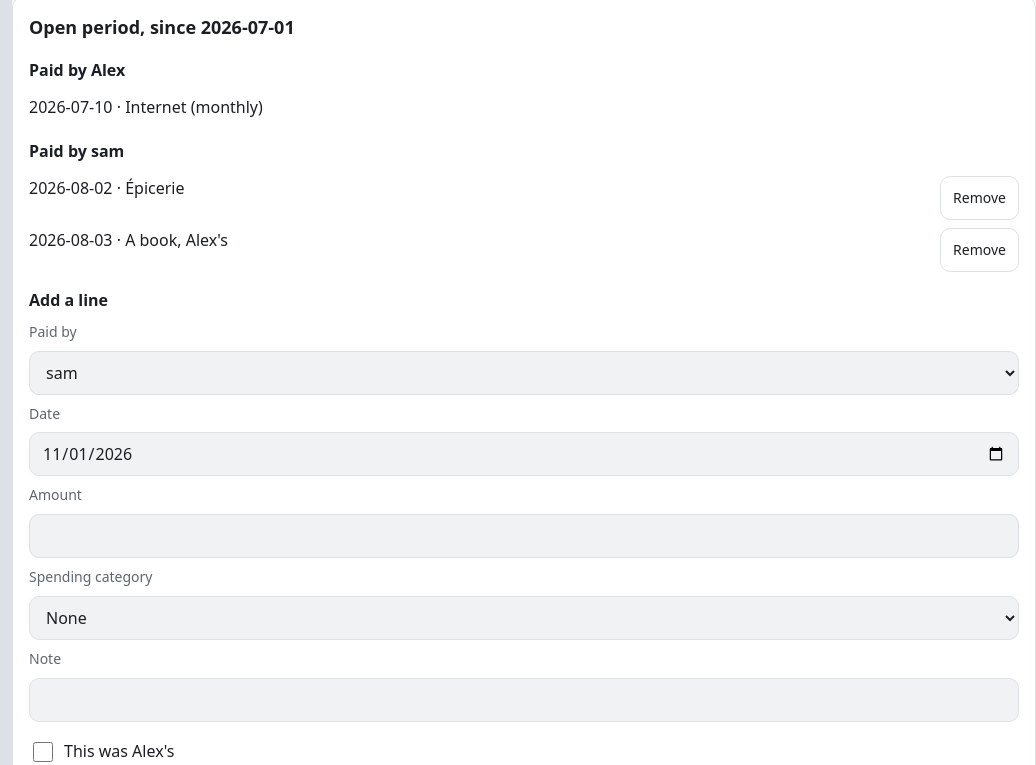
it: a charge to a renamed person is confirmed under their shown name, and sends the id (lg-33)
Type "2026-09-12" into the date field labelled "Date".
click(524, 454); type("2026-09-12")  # box 29,432 -> 1019,476
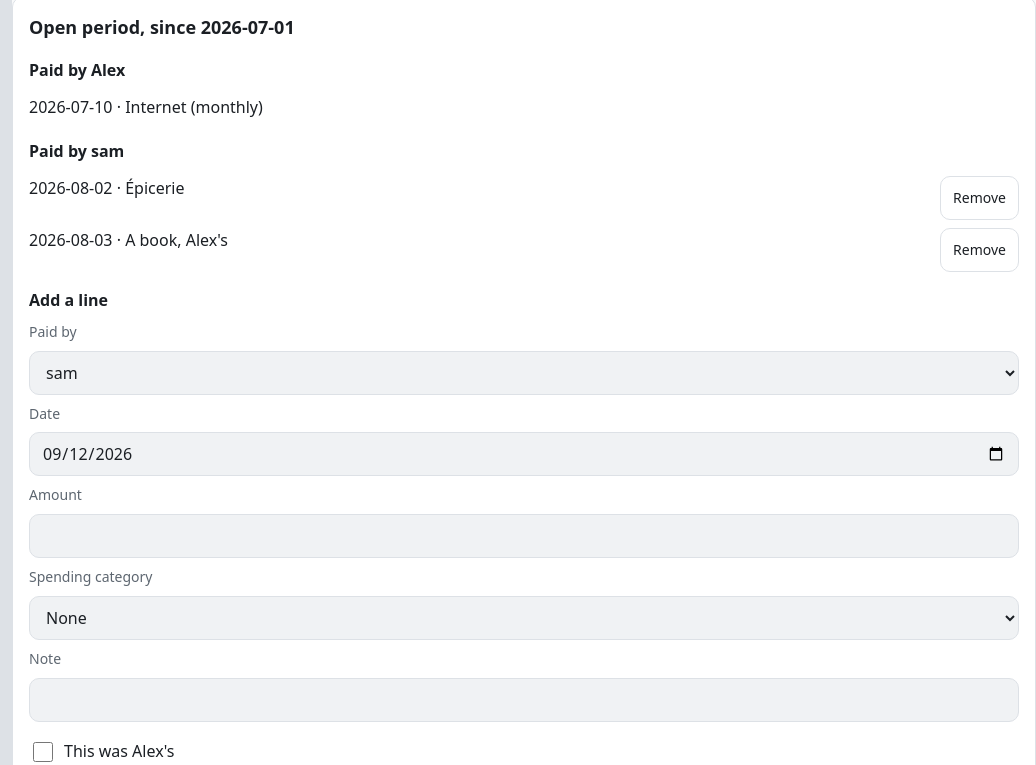
Type "45.20" into the field labelled "Amount".
click(524, 536); type("45.20")  # box 29,514 -> 1019,558
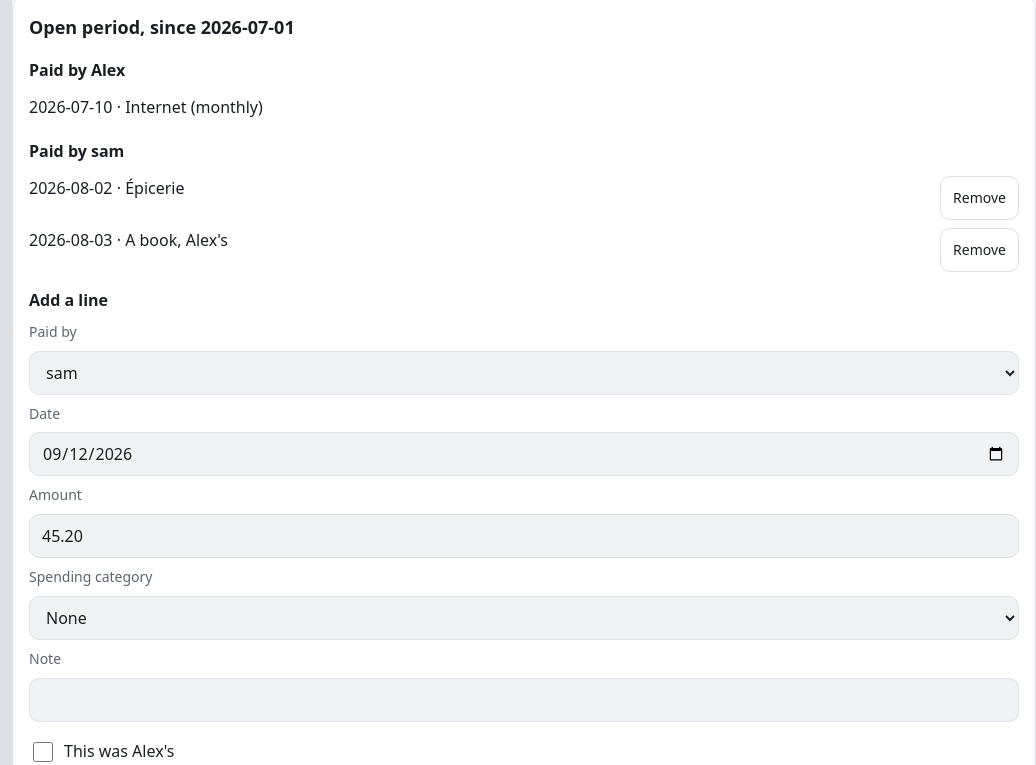
Select "Pharmacy" in the dropdown labelled "Spending category" at (524, 618), box 29,596 -> 1019,640
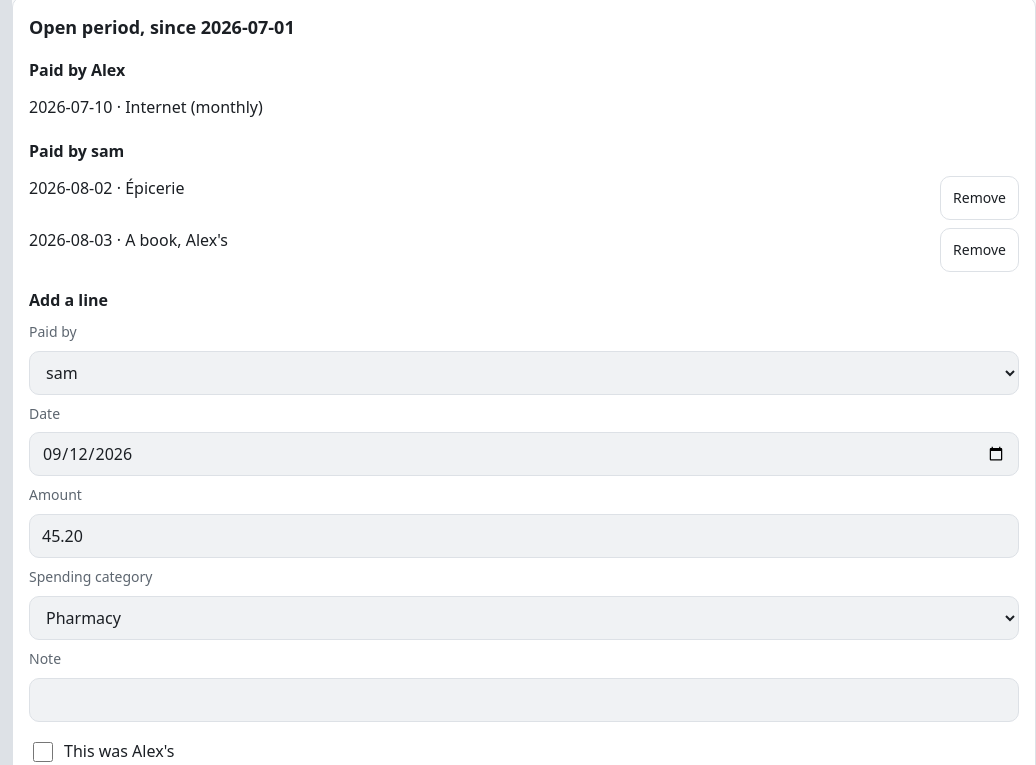
Click the checkbox labelled "This was Alex's".
click(43, 752)  # box 33,742 -> 53,762
(page scrolled)
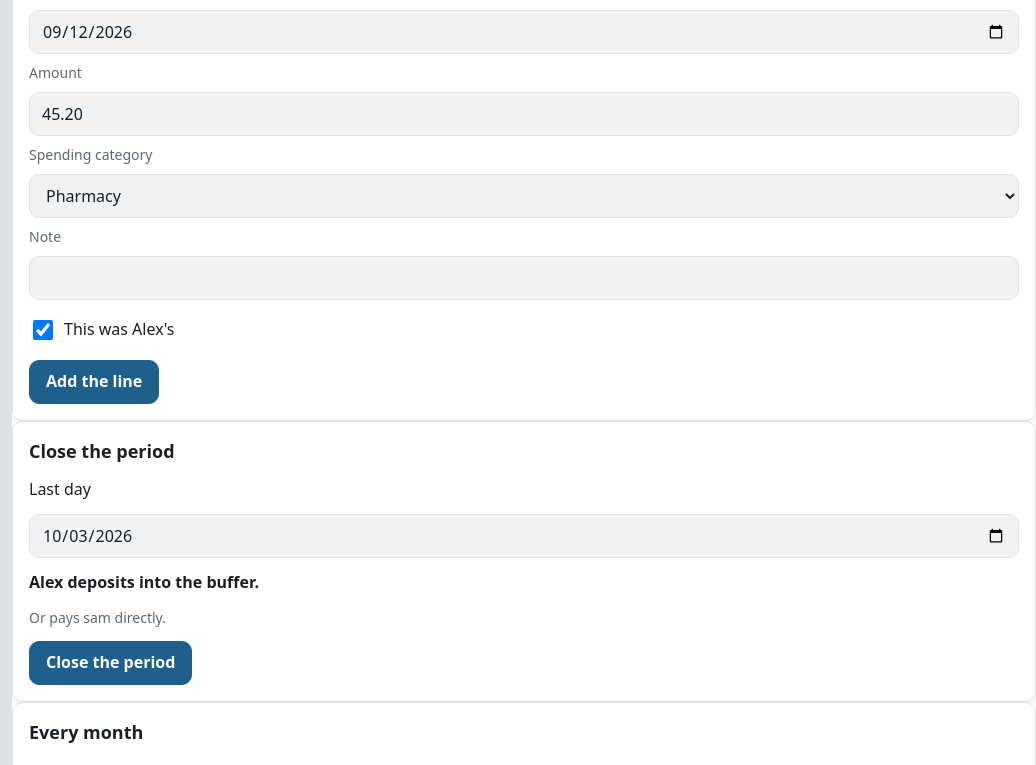
Click the button "Add the line".
click(94, 382)  # box 29,360 -> 159,404
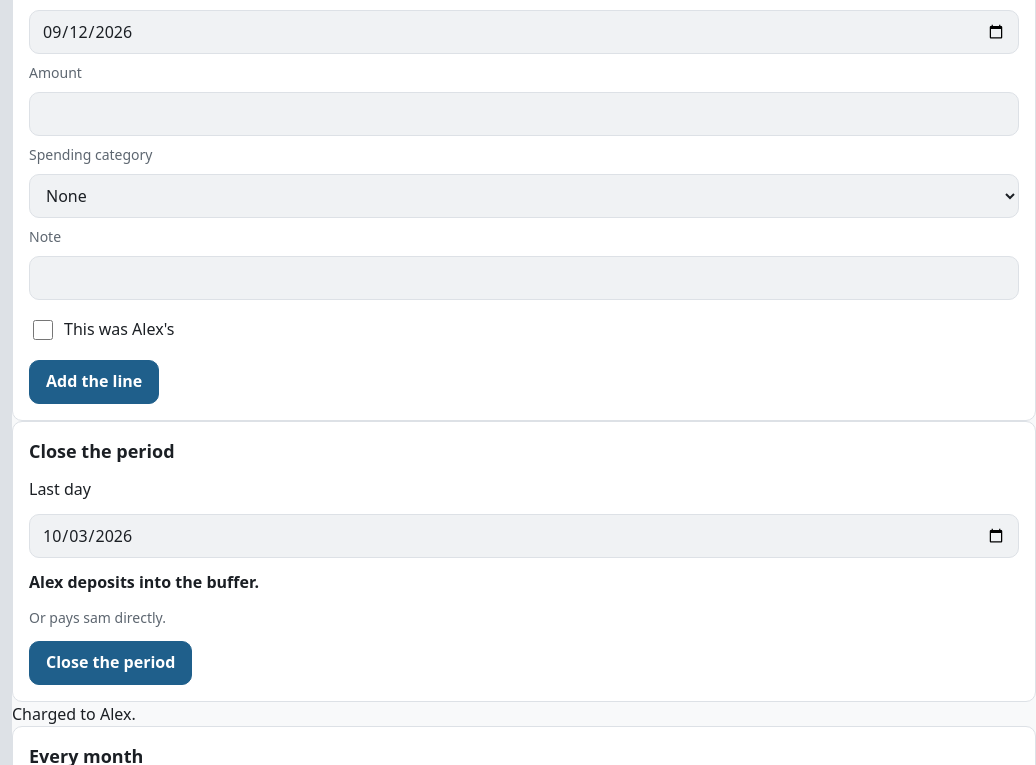
Expected: the text "Charged to Alex." is shown, 12,703 -> 136,725
